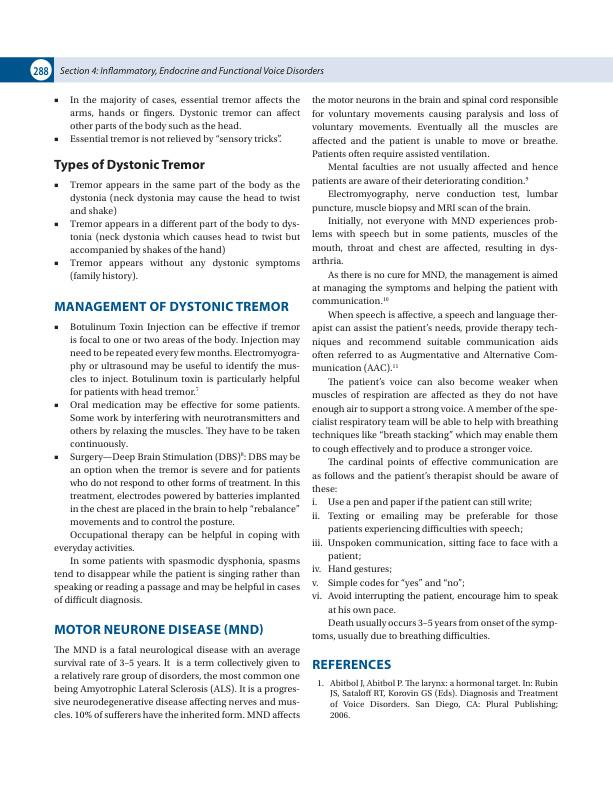header: (59, 66, 325, 77)
list: (52, 321, 301, 528), (311, 497, 559, 616), (51, 179, 301, 283), (51, 94, 302, 146), (317, 678, 558, 719)
section-heading: (53, 300, 290, 313), (54, 624, 264, 636), (312, 659, 392, 671)
sub-section-heading: (52, 158, 207, 173)
text: (310, 94, 560, 493), (53, 530, 301, 607), (53, 645, 301, 719), (311, 618, 558, 643)
